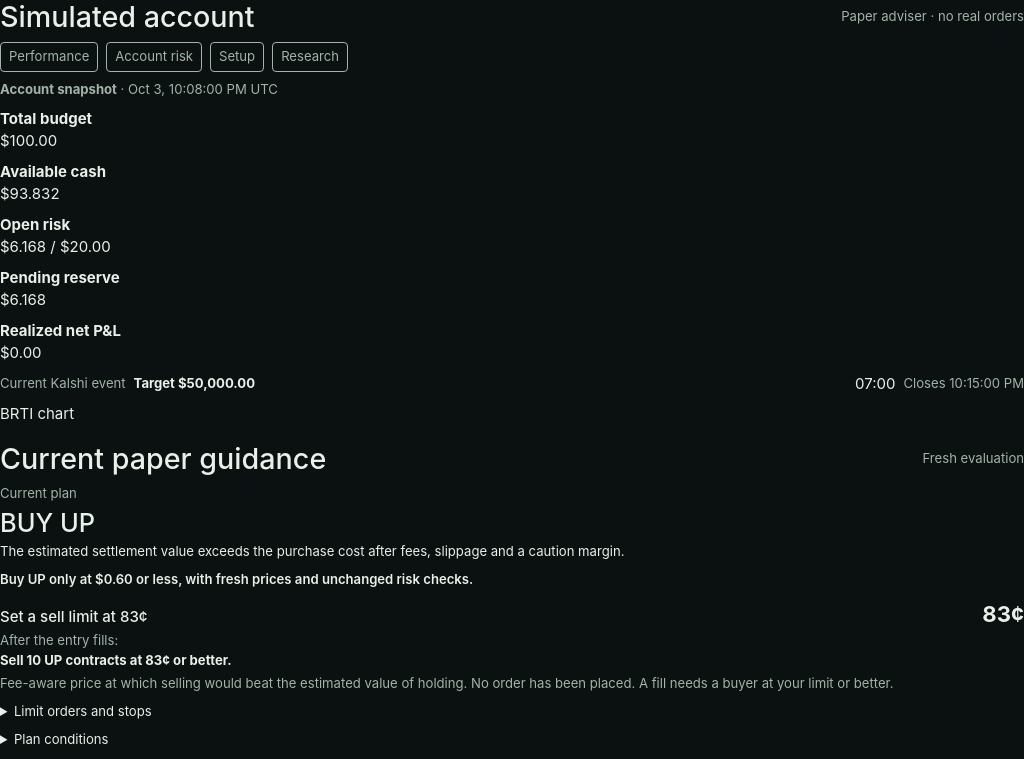
Test case: compares strategy results with holding only on the same completed positions
Click the button "Performance".
click(49, 57)  # box [0,42,98,72]
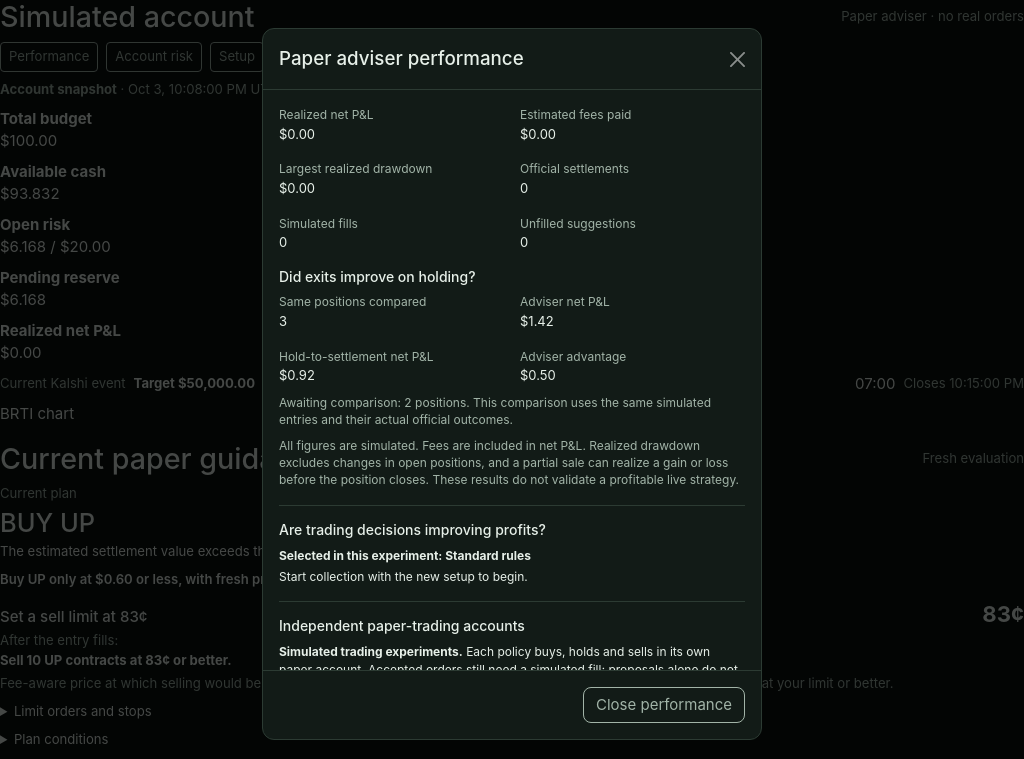
Now the text "3" is shown, box [279,313,287,329]
Now the text "$0.50" is shown, box [520,367,556,383]
Now the text "Awaiting comparison: 2 positions" is shown, box [279,394,745,429]
